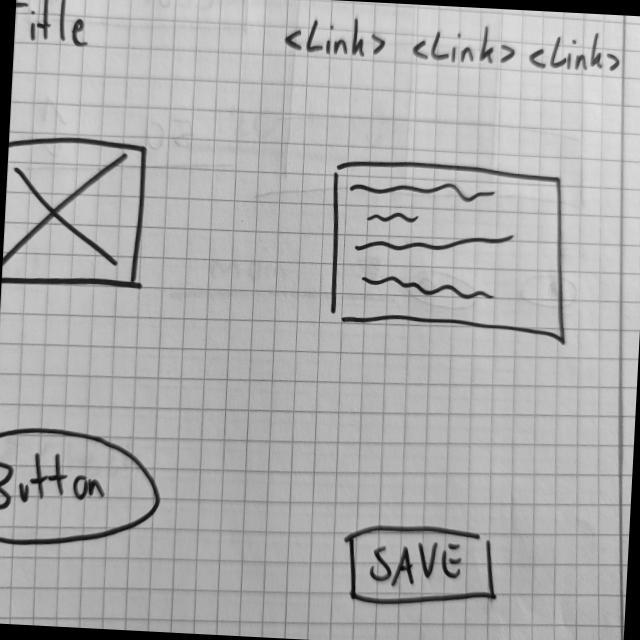button: (0, 422, 165, 554), (342, 520, 498, 612)
image: (1, 132, 150, 298)
label: (14, 0, 97, 51)
link: (278, 10, 391, 67), (410, 19, 520, 71), (527, 27, 624, 80)
textbox: (322, 152, 576, 343)
